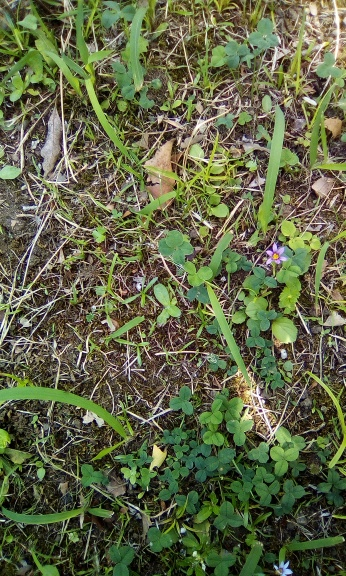4leaf: (158, 230, 194, 266)
